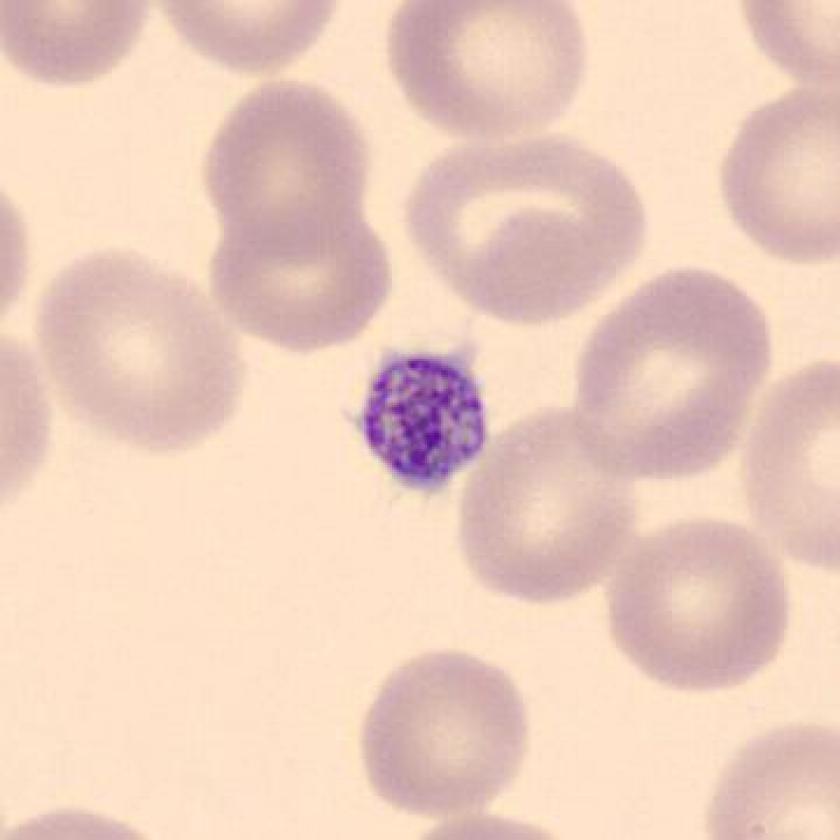platelets: (354, 341, 494, 499)
